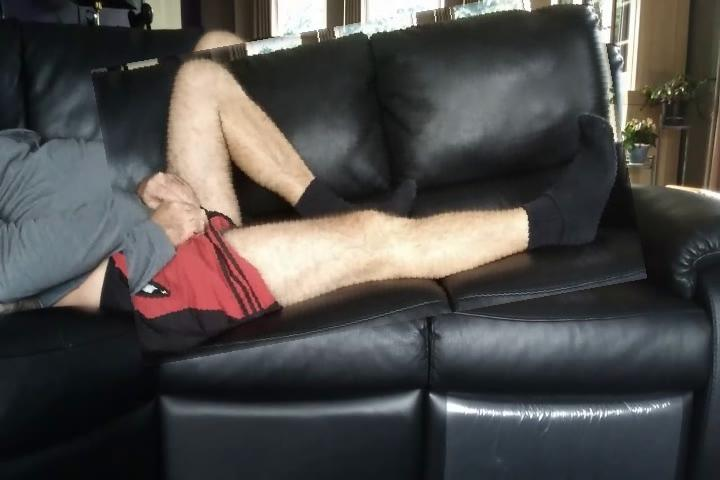lowerbody: (104, 3, 638, 347)
